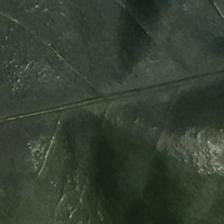healthy: (4, 3, 216, 205)
